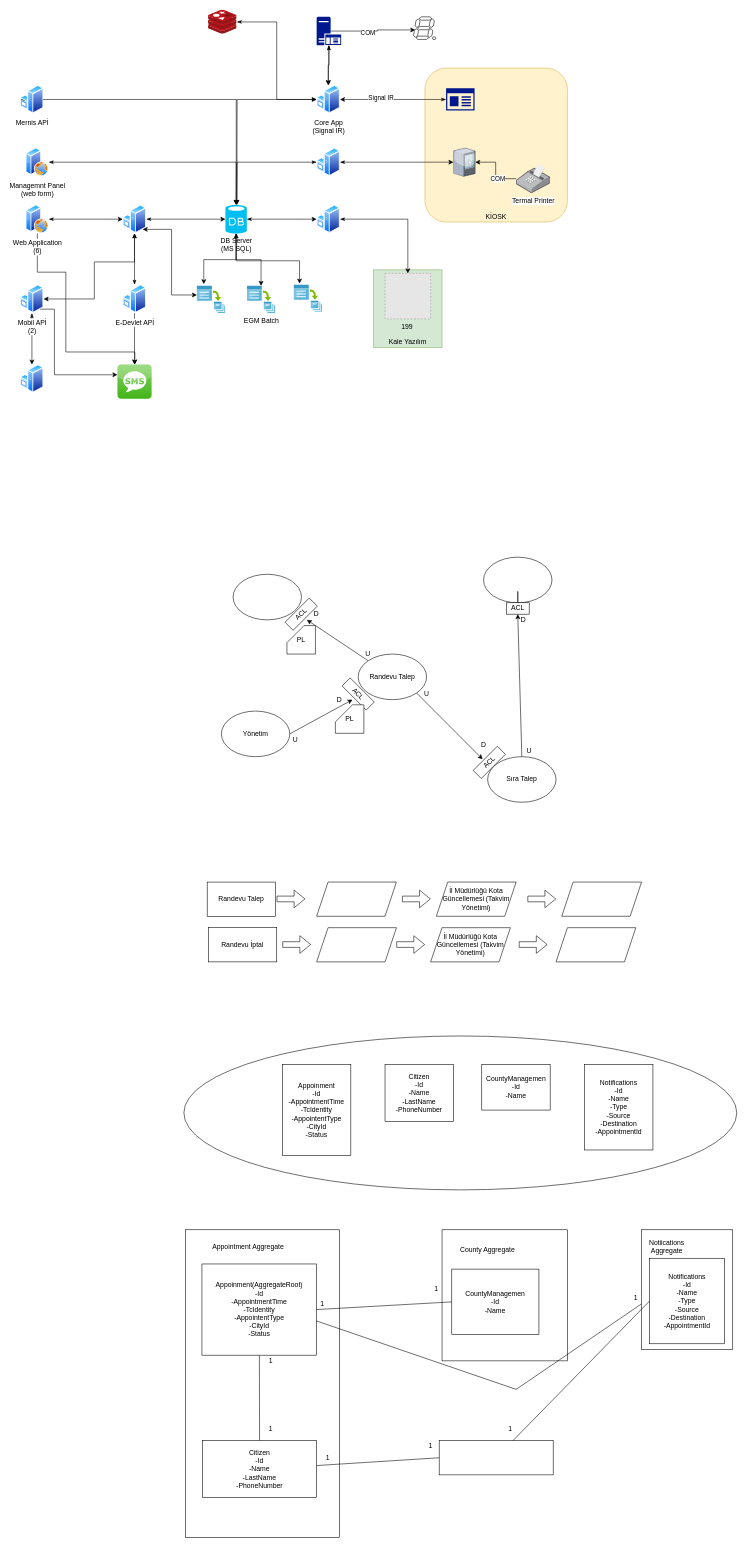
The diagram is 747 pixels wide and 1548 high, and some of its shapes have lost their labels. Grey dashed boxes stand in for pictures. Each missing label, with the box of its shape:
Banko (Windows Form): (316, 17, 341, 45)
Bildirimler: (555, 927, 636, 962)
Data Service (asmx) (7): (123, 205, 146, 233)
E-Çağrı Service: (316, 205, 340, 233)
EKS: (294, 284, 322, 312)
HES: (197, 286, 225, 313)
İl Müdürlüğü: (233, 574, 301, 620)
Kiosk (Windows Form): (453, 148, 475, 176)
KPS (WCF): (20, 364, 43, 393)
Phone Number(Value Object) -CountryCode -AreaCode -Number: (439, 1440, 553, 1475)
Qmatik APİ: (316, 148, 340, 176)
Randevu Sorgulama ve İptal Komutu: (316, 927, 396, 962)
Randevu Talep Giriş: (316, 882, 396, 916)
Screen (Windows Form): (446, 88, 474, 110)
Zamanlı Görevler & Bildirimler: (561, 882, 642, 916)
Çağrırma Talep: (483, 557, 552, 603)
